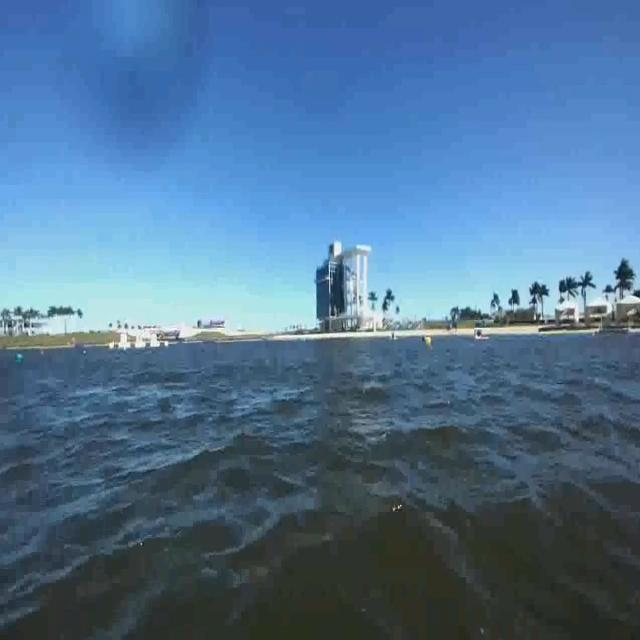yellow-buoy: (425, 337, 433, 348)
